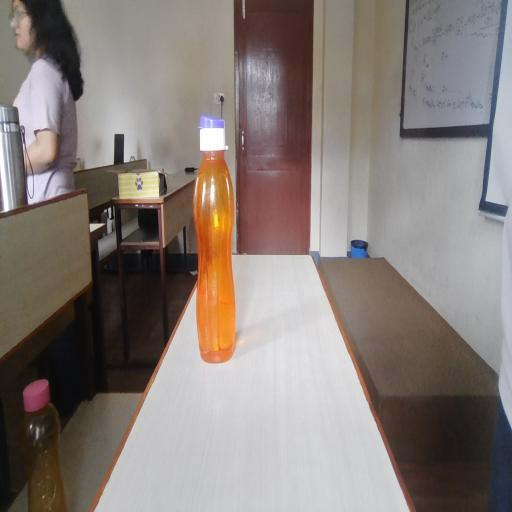Bottle: (190, 100, 255, 369), (12, 367, 65, 499)
